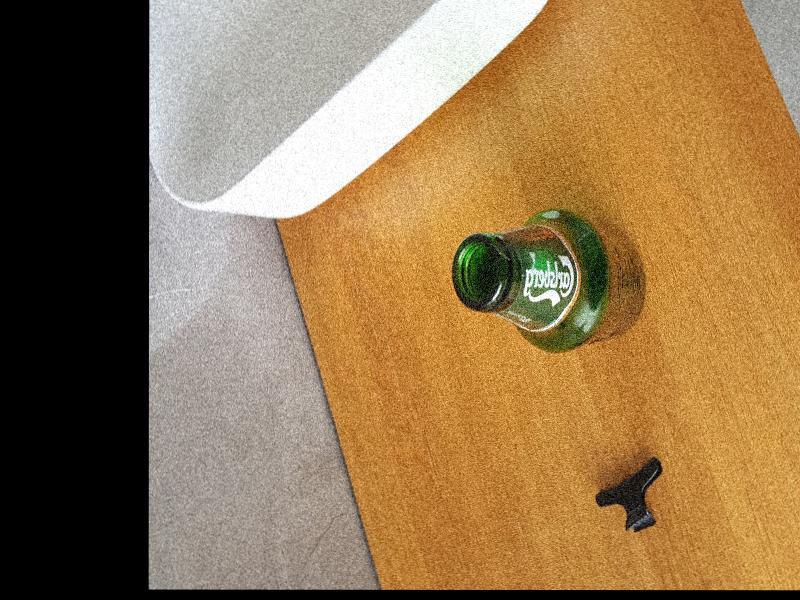Beer: (453, 206, 646, 352)
